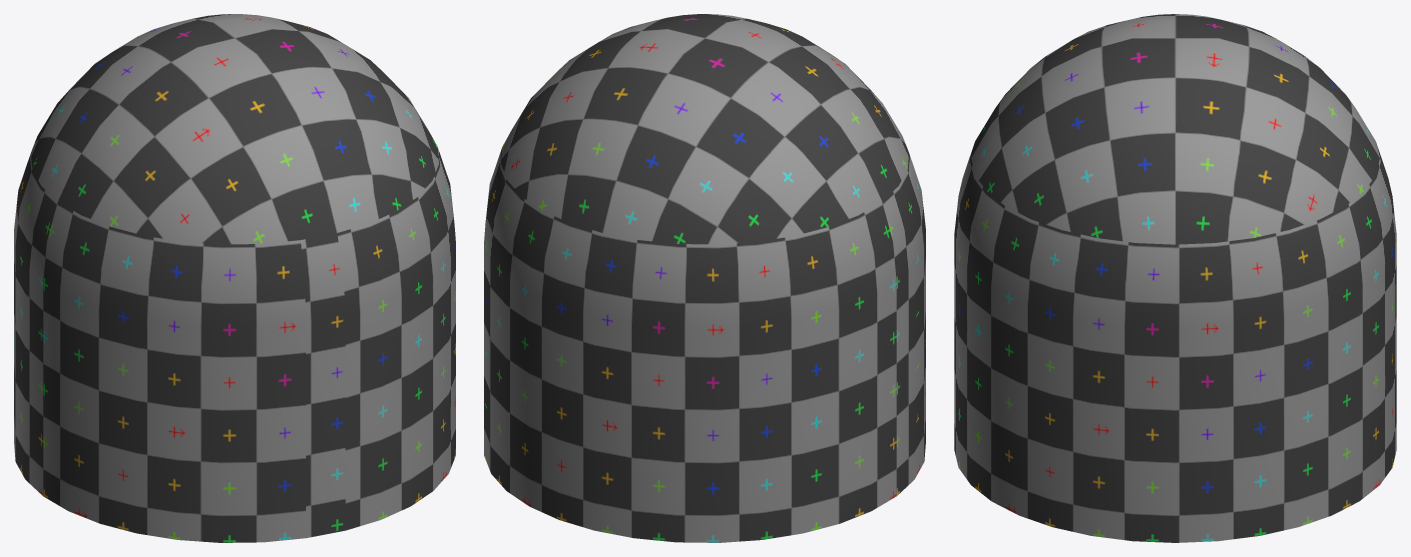
The model's file is platform-circley-smooth.fbx.
The picture shows the model from 3 angles, left to right: view 1: azimuth 30°, elevation 25°; view 2: azimuth 150°, elevation 25°; view 3: azimuth 270°, elevation 25°; orthographic projection.
Visible parts, largest first — view 1: Sphere; view 2: Sphere; view 3: Sphere.
Part boxes in pixels (left/top/right/bottom): Sphere: left=14, top=14, right=455, bottom=542; Sphere: left=484, top=14, right=925, bottom=542; Sphere: left=954, top=14, right=1396, bottom=542.
Bounding box in the file's own units: 1 × 1.03 × 1.
Materials: 1 (1 with a texture image).
